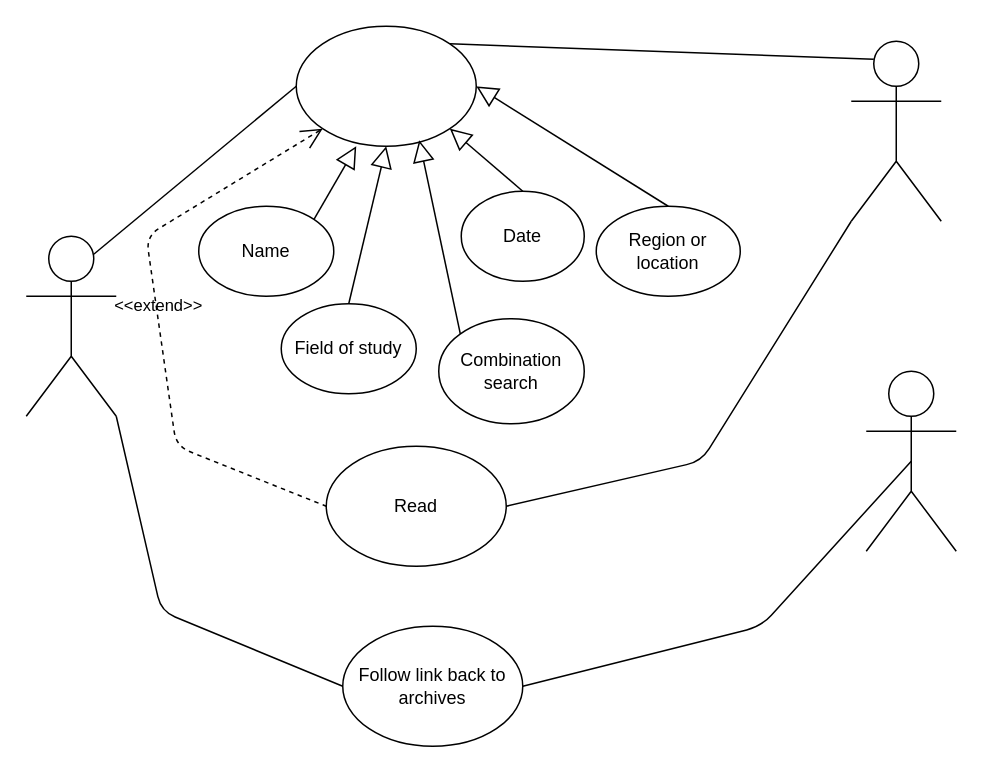
Image size: 993x773. Some labels were removed from this diagram. Each missing label, with the centre of its shape:
"Database" belongs at (895,130).
"NLW archives" belongs at (910,460).
"Search" belongs at (385,85).
"User" belongs at (70,325).
